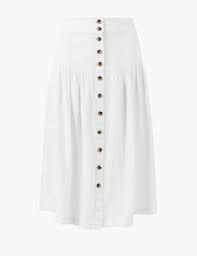C_skirt: (27, 11, 176, 236)
